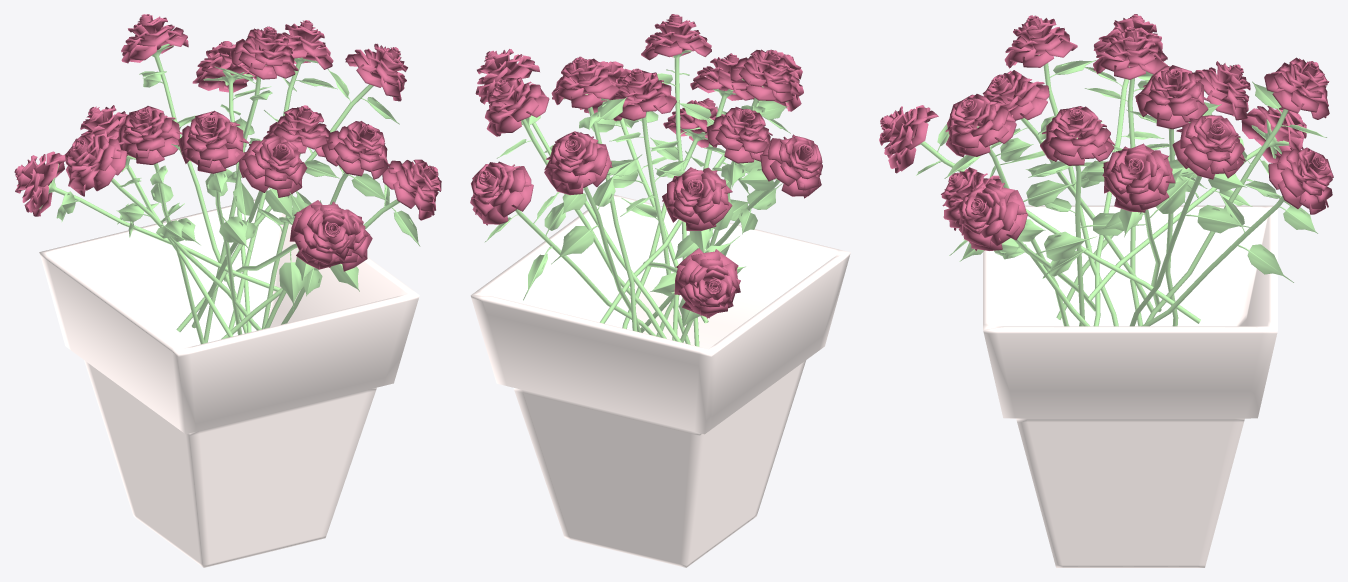
The model's file is rosadas.gltf.
3 views of the same model, side by side, from view 1: azimuth 30°, elevation 25°; view 2: azimuth 150°, elevation 25°; view 3: azimuth 270°, elevation 25° (orthographic). The views are drawn at different scales.
Parts seen in each view (by area): view 1: Cube, Cube.005, Cube.002, Cube.015, Cube.009, Cube.011, Cube.006, Cube.003, Cube.007, Cube.004, Cube.010, Cube.014 (+5 smaller); view 2: Cube, Cube.010, Cube.008, Cube.009, Cube.004, Cube.003, Cube.012, Cube.016, Cube.017, Cube.011, Cube.002, Cube.006 (+5 smaller); view 3: Cube, Cube.008, Cube.016, Cube.007, Cube.014, Cube.017, Cube.006, Cube.010, Cube.003, Cube.002, Cube.005, Cube.011 (+5 smaller).
Boxes of the visible parts, box(x1,y1,x2,y2) form: Cube: box(39, 199, 419, 567); Cube.005: box(223, 192, 356, 313); Cube.002: box(171, 110, 251, 335); Cube.015: box(192, 136, 307, 328); Cube.009: box(64, 134, 261, 330); Cube.011: box(116, 106, 204, 344); Cube.006: box(264, 121, 389, 328); Cube.003: box(203, 26, 298, 343); Cube.007: box(221, 159, 441, 339); Cube.004: box(14, 151, 280, 291); Cube.010: box(121, 14, 246, 333); Cube.014: box(176, 43, 407, 331); Cube: box(470, 194, 850, 567); Cube.010: box(544, 131, 641, 332); Cube.008: box(470, 161, 656, 336); Cube.009: box(640, 134, 822, 332); Cube.004: box(643, 236, 745, 328); Cube.003: box(551, 56, 642, 331); Cube.012: box(662, 167, 733, 260); Cube.016: box(485, 77, 666, 338); Cube.017: box(609, 68, 690, 344); Cube.011: box(680, 107, 772, 342); Cube.002: box(656, 49, 794, 337); Cube.006: box(641, 14, 711, 346); Cube: box(983, 205, 1277, 567); Cube.008: box(1141, 147, 1333, 326); Cube.016: box(1129, 115, 1252, 326); Cube.007: box(958, 182, 1096, 311); Cube.014: box(1101, 143, 1194, 311); Cube.017: box(1028, 106, 1145, 326); Cube.006: box(944, 94, 1075, 326); Cube.010: box(1145, 57, 1329, 323); Cube.003: box(1126, 65, 1221, 326); Cube.002: box(1000, 15, 1118, 326); Cube.005: box(879, 105, 1200, 323); Cube.011: box(1073, 26, 1169, 326).
Size of the model in its own units: 8.26 by 10.99 by 9.1.
